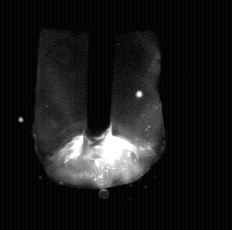arame: (87, 0, 112, 136)
poca: (33, 0, 166, 230)
